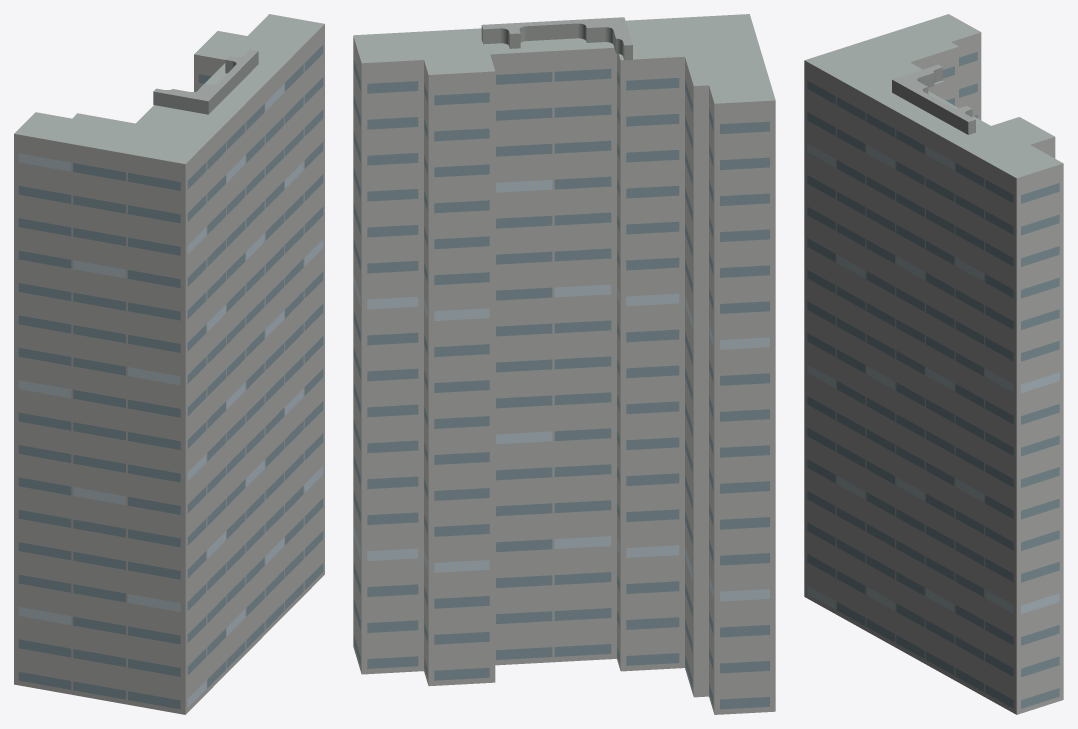
File: fallback-gaepo-raemian-forest-124.glb
3 views of the same model, side by side, from view 1: azimuth 30°, elevation 25°; view 2: azimuth 150°, elevation 25°; view 3: azimuth 270°, elevation 25° (orthographic). The views are drawn at different scales.
Visible parts, largest first — view 1: fallback-gaepo-raemian-forest-124; view 2: fallback-gaepo-raemian-forest-124; view 3: fallback-gaepo-raemian-forest-124.
Part boxes in pixels (x1=…): fallback-gaepo-raemian-forest-124: x1=14, y1=14, x2=324, y2=714; fallback-gaepo-raemian-forest-124: x1=353, y1=14, x2=775, y2=714; fallback-gaepo-raemian-forest-124: x1=804, y1=14, x2=1063, y2=714.
Size of the model in its own units: 64.78 by 101 by 43.15.
